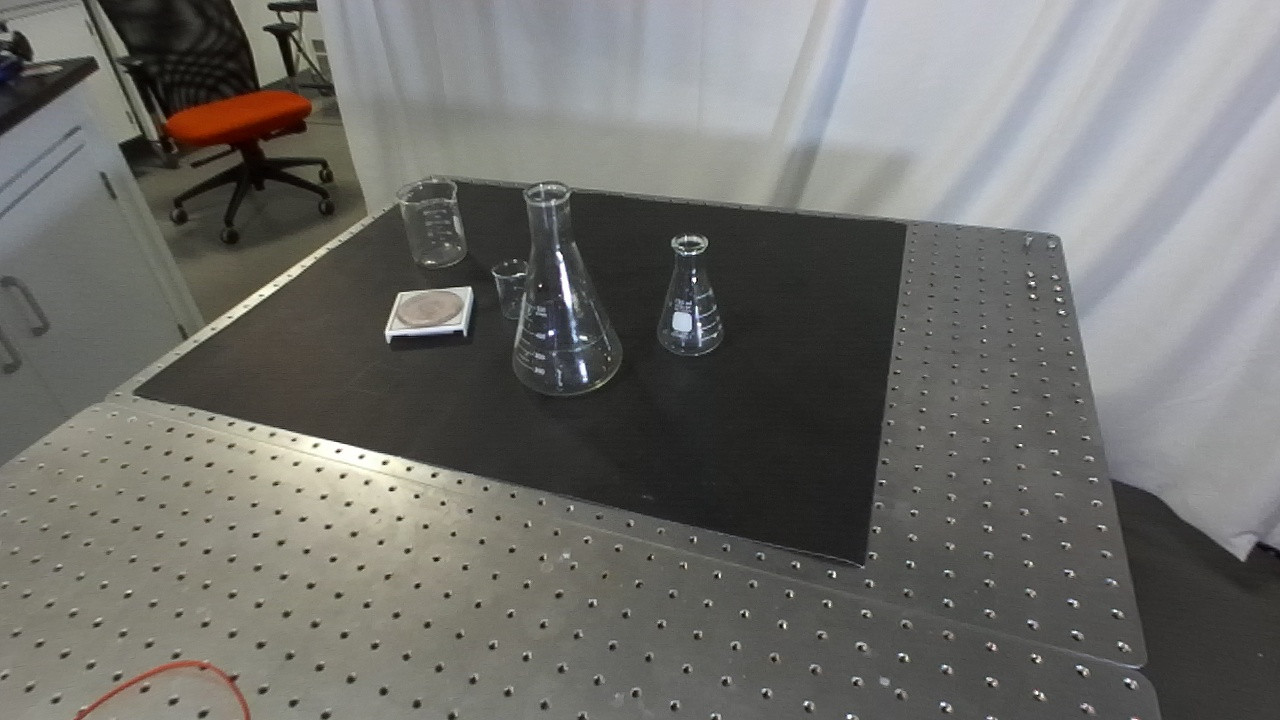glass: (506, 179, 626, 400), (655, 231, 728, 360), (393, 178, 471, 271), (491, 259, 536, 321)
plate: (385, 286, 477, 345)
